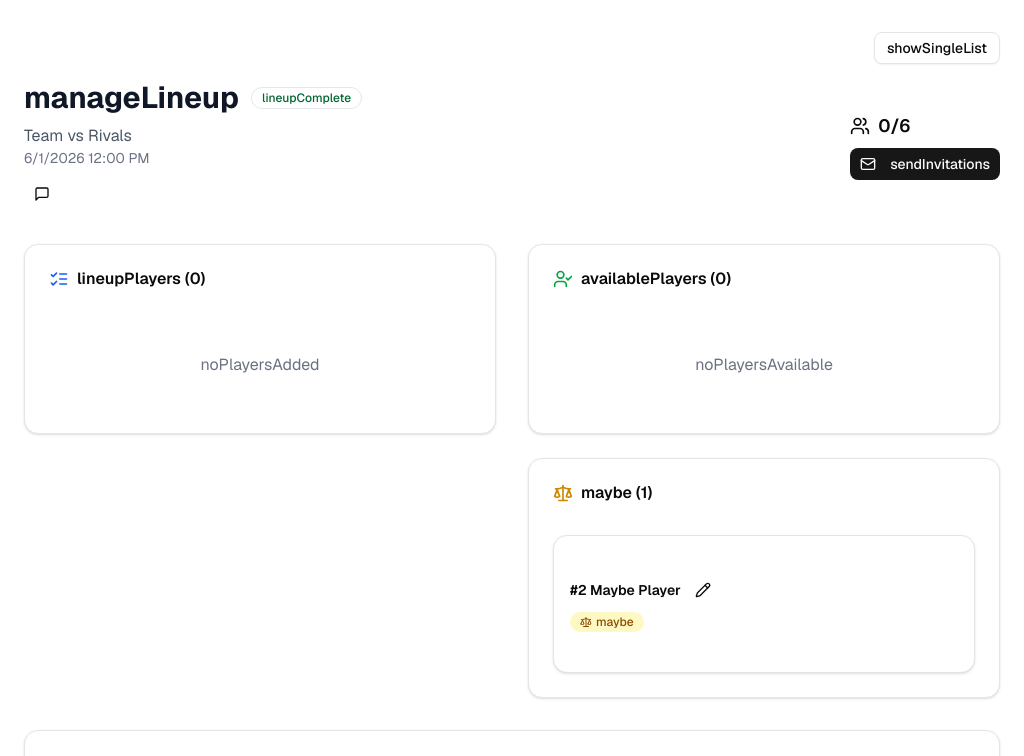
it: captain RSVP controls › locks RSVP status controls while the lineup is finalized
This screenshot has width=1024, height=756.
Click the button named "editRsvp": coordinates (703, 590) [689,576,717,604]
(page scrolled)
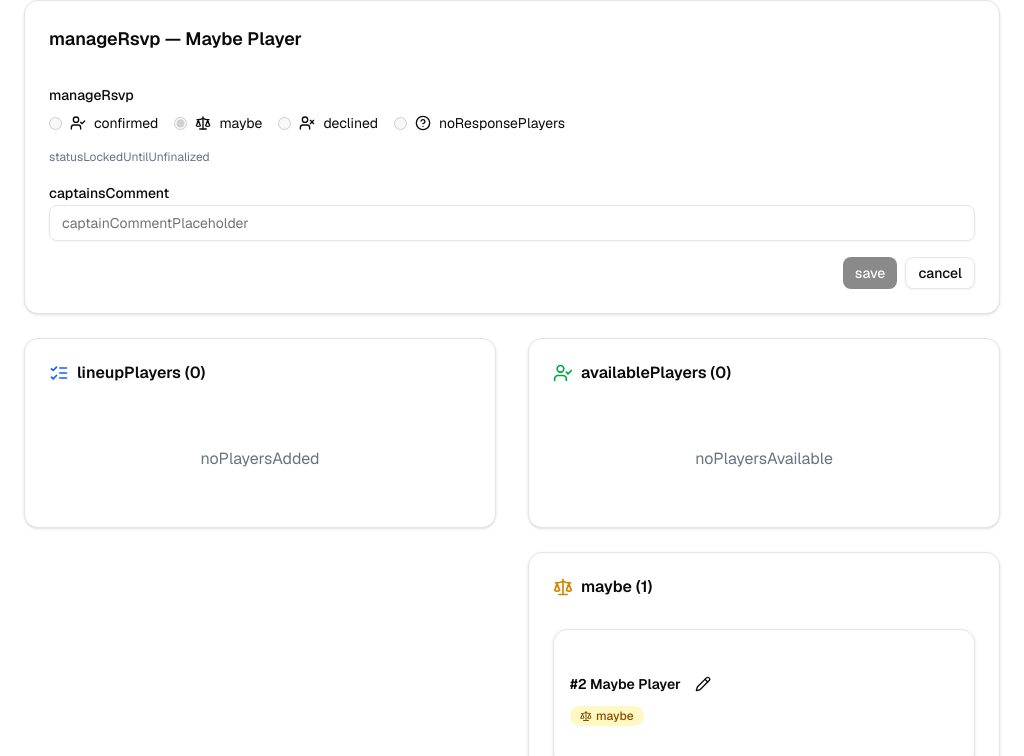
expect the radio button labelled "confirmed" is disabled: met, box [49,116,62,130]
expect the radio button labelled "maybe" is disabled: met, box [174,116,187,130]
expect the radio button labelled "declined" is disabled: met, box [278,116,291,130]
